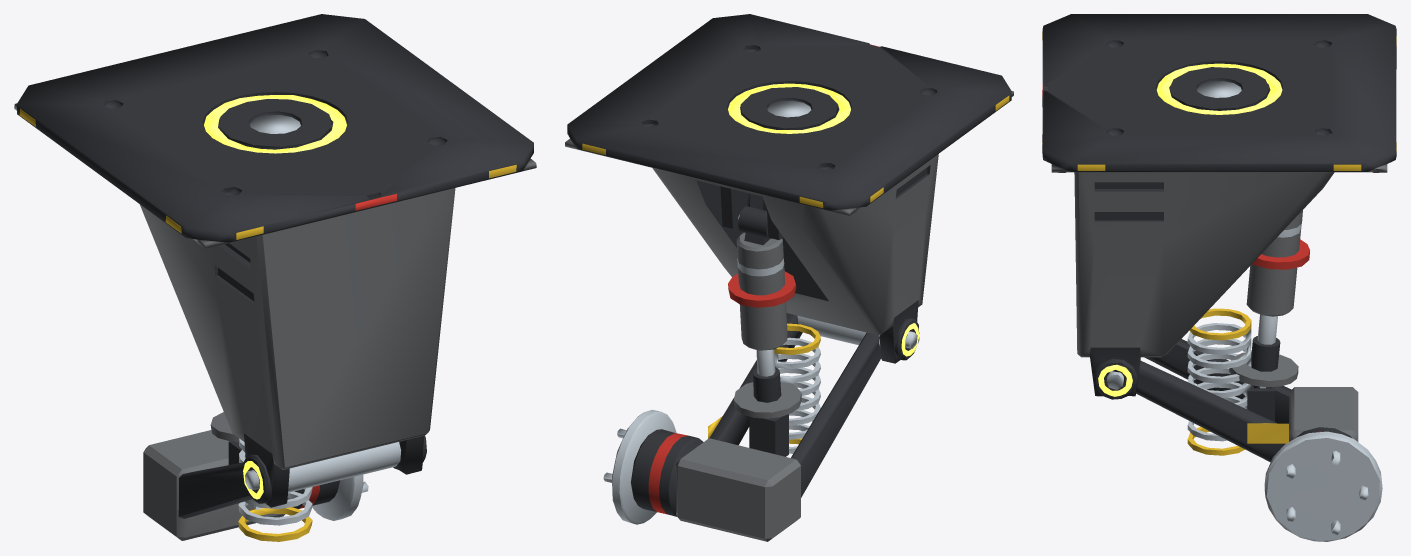
File: R4M_Suspension_LOD1.fbx
The picture shows the model from 3 angles, left to right: view 1: azimuth 30°, elevation 25°; view 2: azimuth 150°, elevation 25°; view 3: azimuth 270°, elevation 25°; orthographic projection. The views are drawn at different scales.
Visible parts, largest first — view 1: R4M_Suspension_Tower_LOD1, R4M_Suspension_Arm_LOD1, R4M_Suspension_Spring_LOD1; view 2: R4M_Suspension_Tower_LOD1, R4M_Suspension_Arm_LOD1, R4M_Suspension_ShockBody_LOD1, R4M_Suspension_Spring_LOD1, R4M_Suspension_ShockRod_LOD1; view 3: R4M_Suspension_Tower_LOD1, R4M_Suspension_Arm_LOD1, R4M_Suspension_Spring_LOD1, R4M_Suspension_ShockBody_LOD1, R4M_Suspension_ShockRod_LOD1.
Boxes of the visible parts, left/top/right/bottom form: R4M_Suspension_Tower_LOD1: left=14, top=14, right=536, bottom=507; R4M_Suspension_Arm_LOD1: left=143, top=430, right=401, bottom=540; R4M_Suspension_Spring_LOD1: left=238, top=438, right=312, bottom=541; R4M_Suspension_Tower_LOD1: left=565, top=14, right=1013, bottom=363; R4M_Suspension_Arm_LOD1: left=603, top=313, right=917, bottom=541; R4M_Suspension_ShockBody_LOD1: left=728, top=206, right=796, bottom=350; R4M_Suspension_Spring_LOD1: left=774, top=323, right=820, bottom=453; R4M_Suspension_ShockRod_LOD1: left=733, top=349, right=801, bottom=418; R4M_Suspension_Tower_LOD1: left=1042, top=14, right=1396, bottom=399; R4M_Suspension_Arm_LOD1: left=1107, top=339, right=1382, bottom=541; R4M_Suspension_Spring_LOD1: left=1187, top=308, right=1251, bottom=455; R4M_Suspension_ShockBody_LOD1: left=1246, top=210, right=1309, bottom=316; R4M_Suspension_ShockRod_LOD1: left=1229, top=314, right=1298, bottom=388.
Bounding box in the file's own units: 0.5108 × 0.645 × 0.5108.
